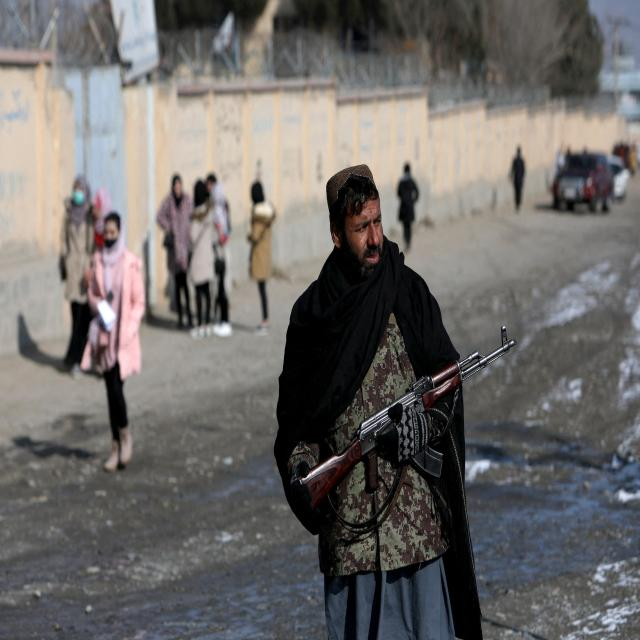Militant: (272, 139, 510, 640), (82, 202, 157, 488), (169, 164, 233, 343)
